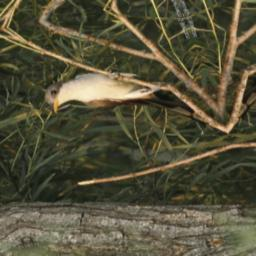Cuckoo: (37, 53, 215, 154)
